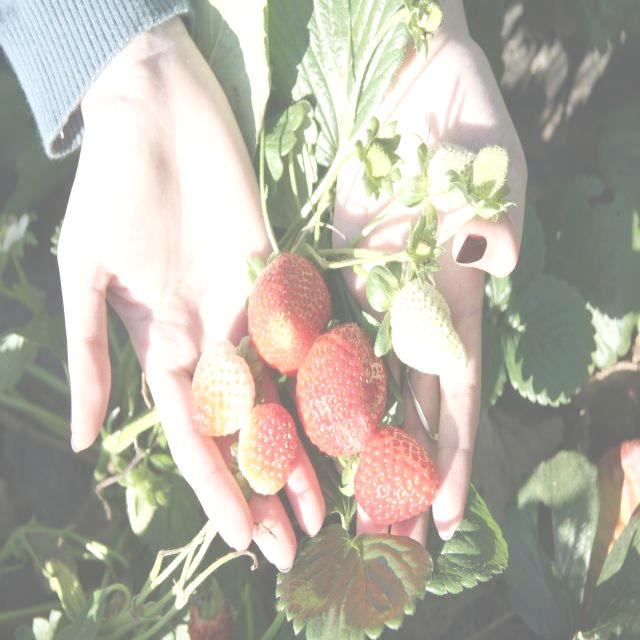ripe: (294, 318, 391, 464), (245, 248, 337, 382), (353, 421, 446, 528), (236, 398, 306, 498)
unripe: (382, 274, 477, 386), (191, 335, 255, 449), (422, 138, 488, 214), (471, 135, 520, 211), (362, 130, 399, 196), (402, 0, 447, 39)
